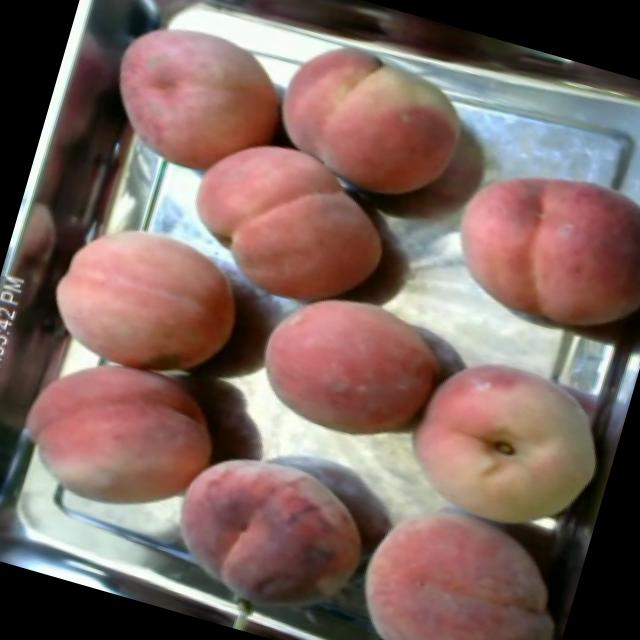Fruit: (143, 417, 404, 640), (378, 324, 630, 550), (162, 110, 420, 330), (246, 9, 492, 232), (235, 258, 472, 472), (28, 190, 266, 398), (0, 337, 239, 542), (427, 132, 640, 360), (82, 0, 307, 196), (322, 481, 588, 640)
